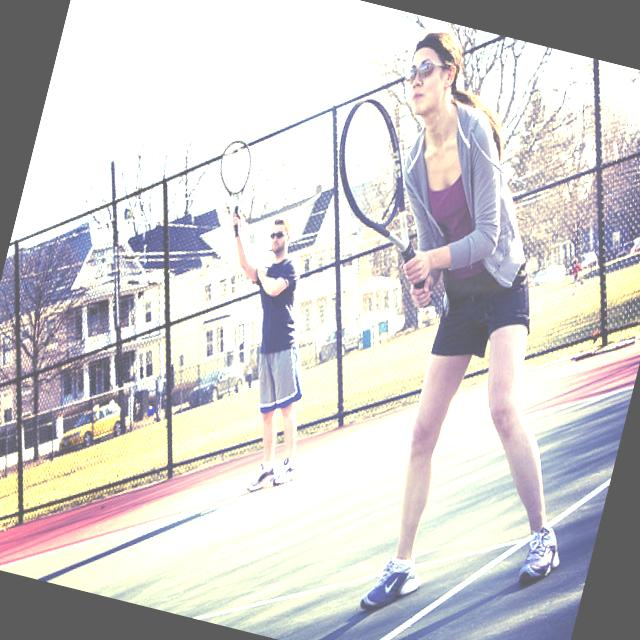Vehicle: (57, 396, 126, 462), (186, 356, 248, 418), (317, 317, 362, 368), (530, 260, 568, 294)
